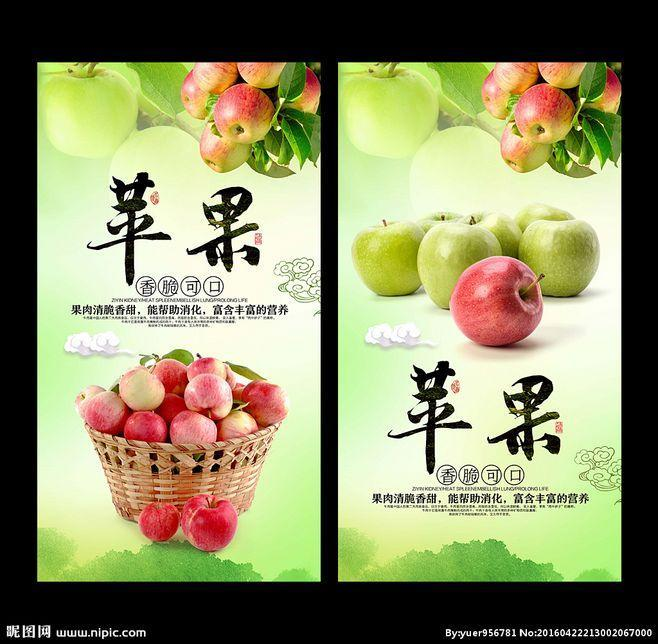apple: (449, 257, 542, 347), (209, 83, 275, 151), (181, 494, 237, 551), (521, 86, 577, 142), (501, 118, 555, 176), (200, 124, 251, 173), (185, 374, 232, 417), (119, 369, 166, 412), (238, 382, 287, 422), (138, 498, 179, 543), (84, 390, 124, 435), (173, 412, 215, 446)
